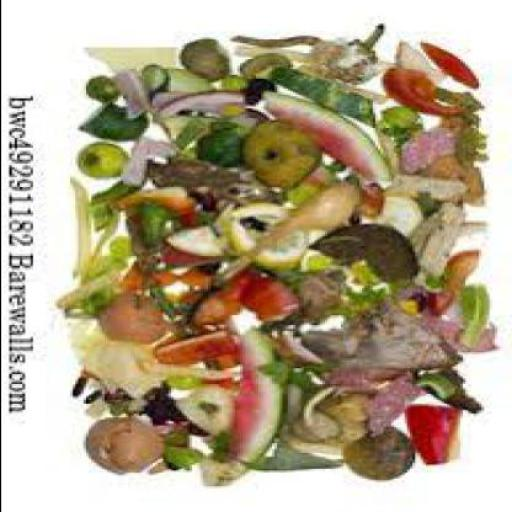biodegradable: (220, 179, 363, 278), (270, 88, 392, 180), (218, 325, 289, 476), (356, 301, 464, 376), (262, 352, 342, 432), (74, 325, 172, 390), (226, 198, 313, 268), (318, 223, 424, 279), (278, 67, 377, 124), (294, 382, 379, 445), (114, 184, 199, 242), (88, 411, 167, 473), (313, 20, 390, 82), (249, 118, 318, 187), (390, 66, 478, 114), (61, 256, 127, 318), (92, 42, 188, 84), (400, 402, 464, 464), (345, 425, 419, 478), (172, 380, 236, 440), (196, 266, 260, 325), (284, 264, 348, 323), (417, 199, 467, 274), (372, 366, 424, 438), (144, 380, 208, 435), (422, 154, 486, 207), (432, 246, 480, 315), (398, 35, 454, 91), (104, 294, 168, 342), (371, 185, 430, 236), (321, 388, 374, 443), (254, 437, 345, 469), (82, 100, 154, 140), (124, 134, 181, 184), (422, 368, 486, 412), (430, 317, 502, 355), (400, 124, 459, 169), (71, 177, 96, 283), (217, 164, 284, 203), (244, 274, 302, 319), (453, 280, 493, 343), (88, 230, 136, 282), (297, 384, 342, 439), (393, 169, 472, 199), (165, 330, 239, 362), (90, 171, 146, 213), (196, 118, 247, 164), (430, 40, 480, 86), (164, 223, 231, 256), (151, 152, 218, 185), (162, 90, 249, 114), (164, 242, 228, 274), (236, 40, 322, 62), (82, 138, 136, 173), (114, 67, 152, 116), (289, 166, 340, 202), (189, 36, 233, 75), (156, 112, 210, 142), (162, 65, 215, 95), (342, 284, 390, 317), (302, 328, 361, 354), (165, 427, 207, 463), (350, 176, 385, 218), (201, 455, 249, 484), (438, 84, 490, 110), (247, 50, 297, 76), (350, 177, 385, 214), (458, 118, 488, 161), (382, 105, 424, 134), (183, 262, 215, 299), (234, 34, 324, 47), (228, 104, 273, 126), (352, 256, 384, 286), (92, 199, 120, 232), (212, 430, 236, 466), (88, 74, 120, 100), (144, 89, 186, 108), (146, 63, 173, 92), (303, 246, 342, 266), (247, 77, 279, 100), (462, 214, 494, 236), (419, 185, 444, 211), (220, 71, 252, 90), (446, 111, 480, 128), (160, 270, 192, 286), (422, 268, 446, 287), (90, 394, 109, 416), (151, 456, 170, 472), (111, 386, 130, 402), (77, 370, 90, 392), (114, 394, 130, 411), (87, 386, 106, 399), (334, 158, 350, 168), (135, 392, 143, 409), (173, 456, 180, 466)
